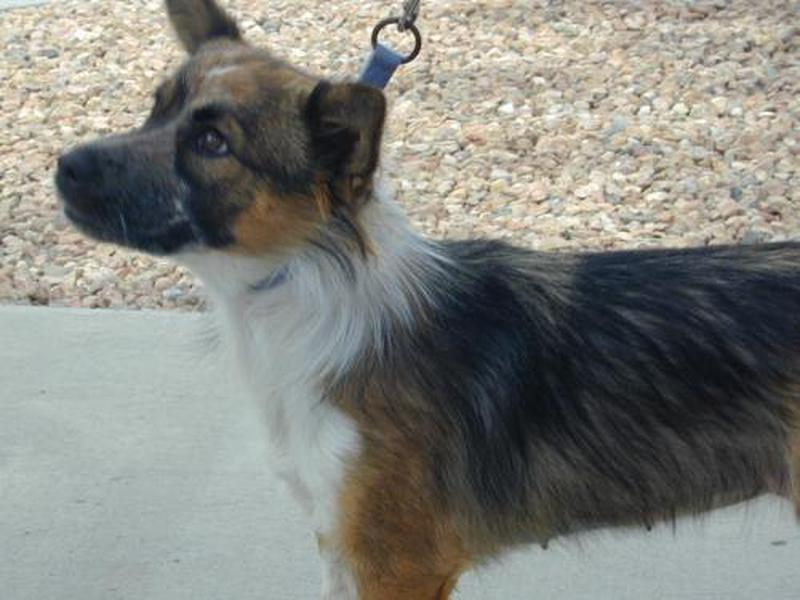dog: (50, 40, 794, 595)
